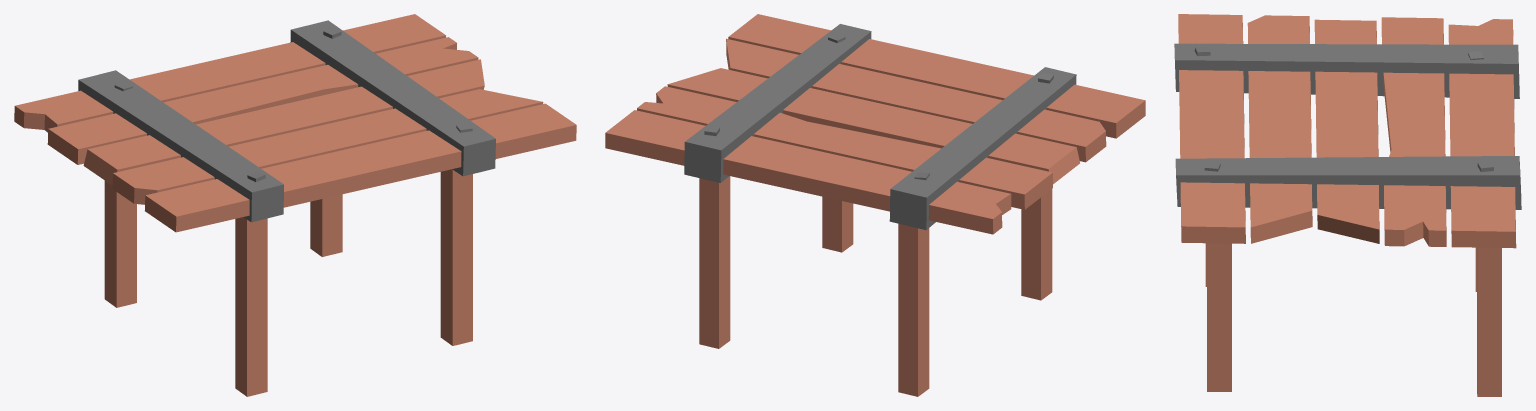
The model's file is table_6d459af2.glb.
3 renders of one model, left to right at view 1: azimuth 30°, elevation 25°; view 2: azimuth 150°, elevation 25°; view 3: azimuth 270°, elevation 25°, orthographic. The views are drawn at different scales.
Parts seen in each view (by area): view 1: table_short; view 2: table_short; view 3: table_short.
Boxes of the visible parts, box(x1,y1,x2,y2) form: table_short: box(14, 14, 576, 396); table_short: box(605, 14, 1145, 396); table_short: box(1174, 14, 1521, 396).
Size of the model in its own units: 53.39 by 28.69 by 38.06.
